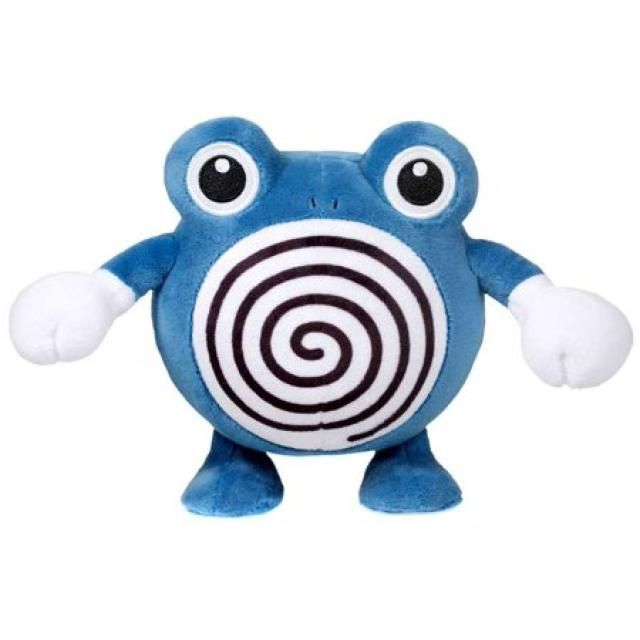Poliwhirl: (143, 119, 472, 449)
